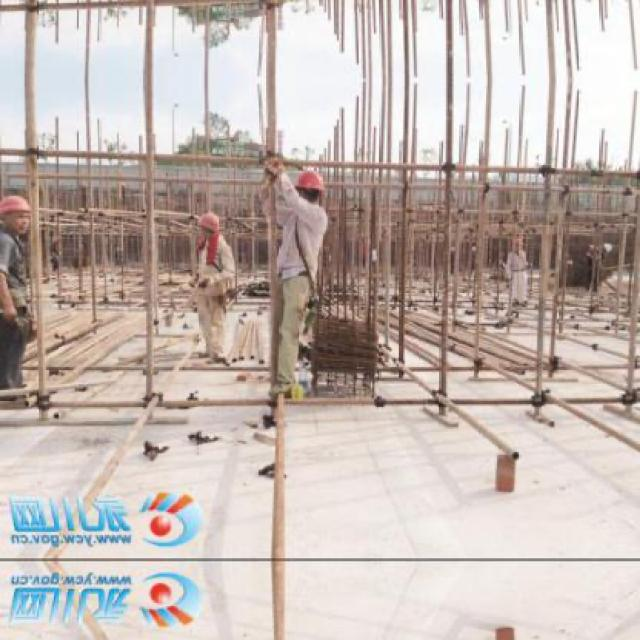con casco: (3, 176, 78, 257), (262, 155, 351, 211), (190, 193, 286, 240)
